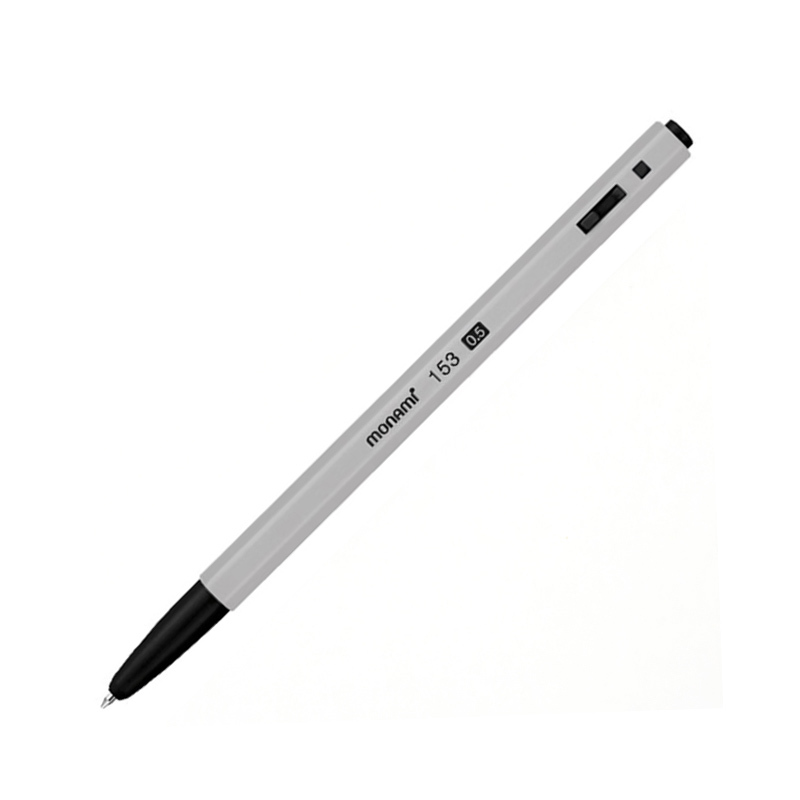pen: (100, 101, 710, 714)
